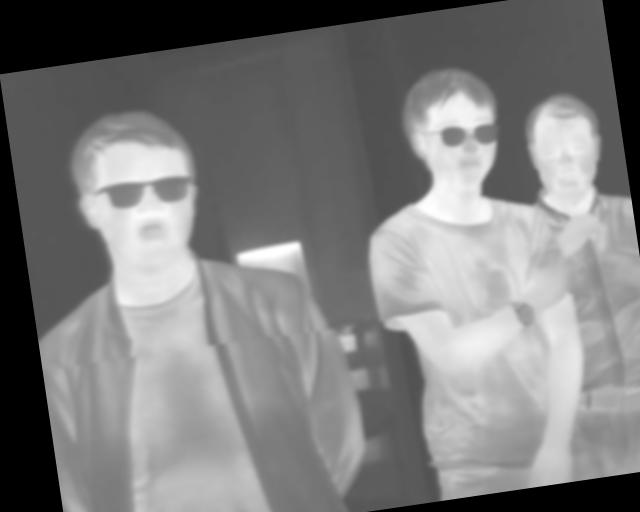face: (63, 99, 209, 278), (395, 59, 510, 198), (518, 86, 611, 211)
